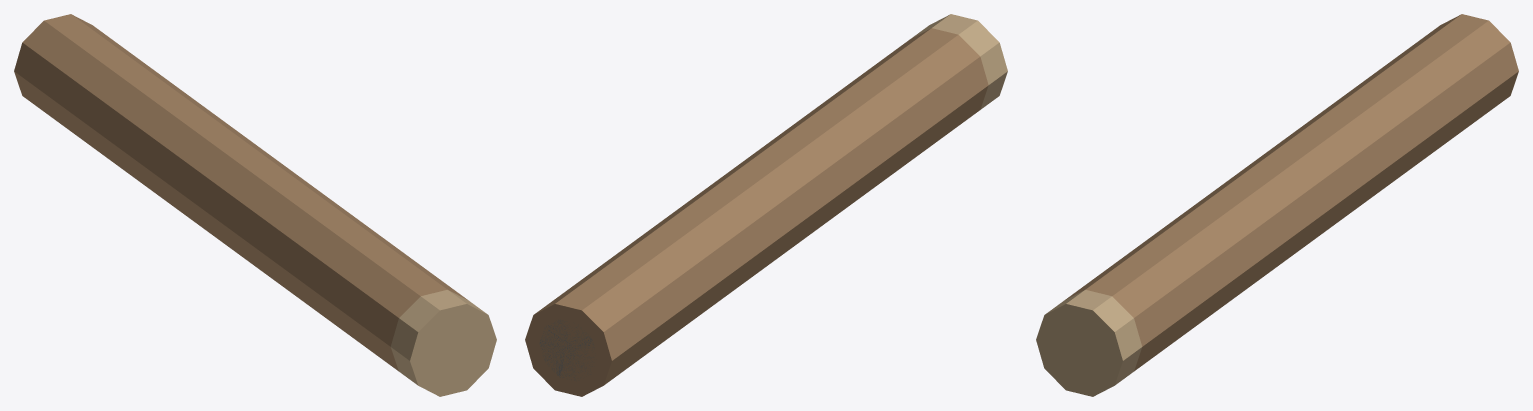
The model's file is bat.glb.
3 renders of one model, left to right at view 1: azimuth 30°, elevation 25°; view 2: azimuth 150°, elevation 25°; view 3: azimuth 330°, elevation 25°, orthographic.
Parts seen in each view (by area): view 1: 00_bat_body, 02_bat_knob; view 2: 00_bat_body, 02_bat_knob, 01_grip_tape; view 3: 00_bat_body, 02_bat_knob.
Part boxes in pixels (bbox=[...]): 00_bat_body: bbox=[14, 14, 468, 371]; 02_bat_knob: bbox=[390, 289, 496, 396]; 00_bat_body: bbox=[525, 28, 988, 396]; 02_bat_knob: bbox=[911, 14, 1007, 109]; 01_grip_tape: bbox=[539, 320, 594, 380]; 00_bat_body: bbox=[1064, 14, 1518, 371]; 02_bat_knob: bbox=[1036, 289, 1142, 396].
Bounding box in the file's own units: 0.104 × 0.0989 × 0.82.
